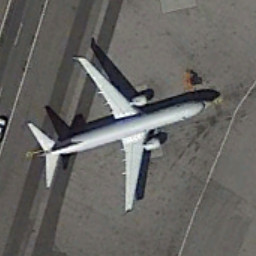Airplane: (21, 48, 216, 219)
